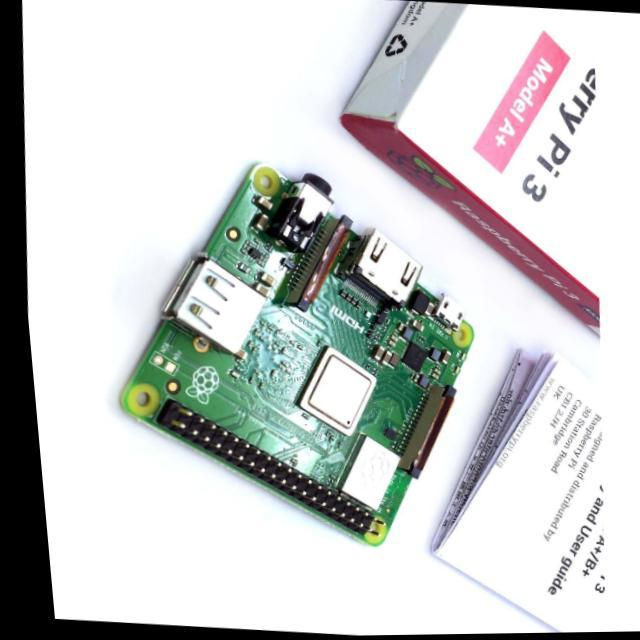Raspberry-Pi-3-A-: (123, 164, 475, 546)
